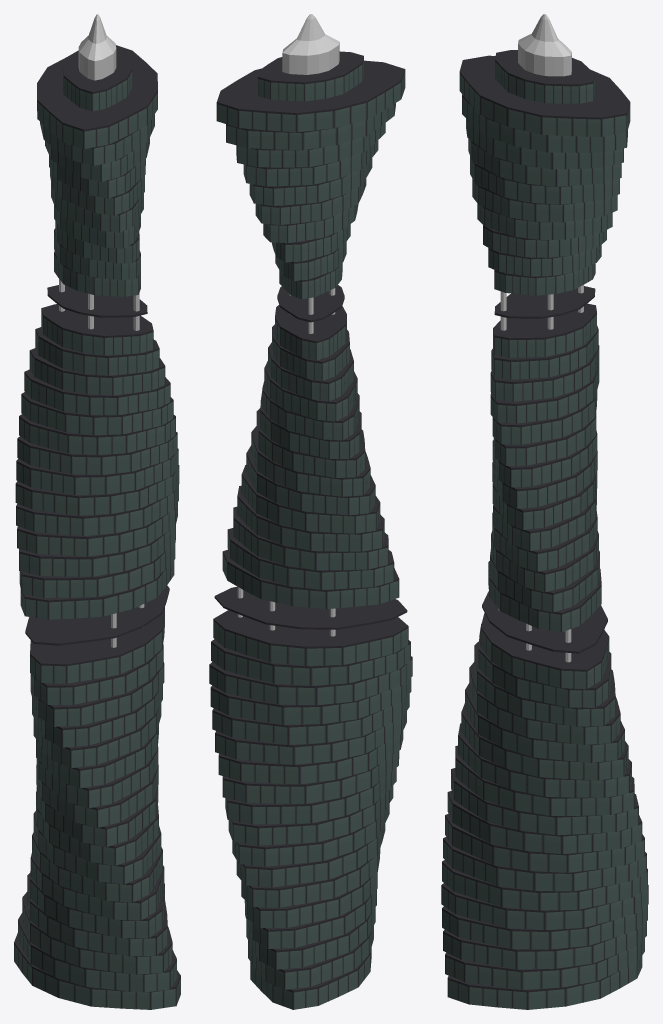
File: Skycraper008.fbx
3 renders of one model, left to right at view 1: azimuth 30°, elevation 25°; view 2: azimuth 150°, elevation 25°; view 3: azimuth 270°, elevation 25°, orthographic.
Parts seen in each view (by area): view 1: Building8; view 2: Building8; view 3: Building8.
Boxes of the visible parts, <box> form: Building8: <box>14,14,180,1009</box>; Building8: <box>209,14,412,1009</box>; Building8: <box>441,14,648,1009</box>.
Size of the model in its own units: 6115 by 34796 by 6749.
